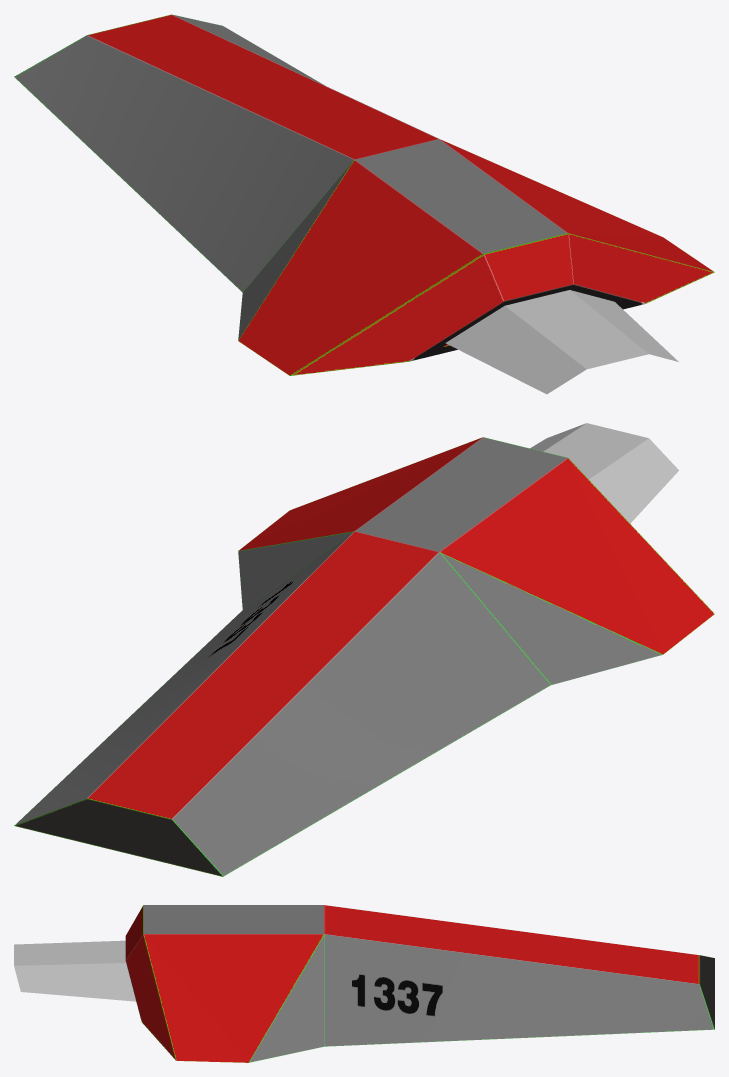
The model's file is Hover.gltf.
3 renders of one model, top to bottom at view 1: azimuth 30°, elevation 25°; view 2: azimuth 150°, elevation 25°; view 3: azimuth 270°, elevation 25°, orthographic. The views are drawn at different scales.
Visible parts, largest first — view 1: Box001, Booster; view 2: Box001, Booster; view 3: Box001, Booster.
Boxes of the visible parts, x1,y1,x2,y2 form: Box001: (14,14,714,375); Booster: (445,290,678,394); Box001: (14,437,714,876); Booster: (530,423,678,523); Box001: (125,905,714,1062); Booster: (14,940,136,1001).
Bounding box in the file's own units: 1.9 × 0.4527 × 3.87.
2 materials, 1 textured.
